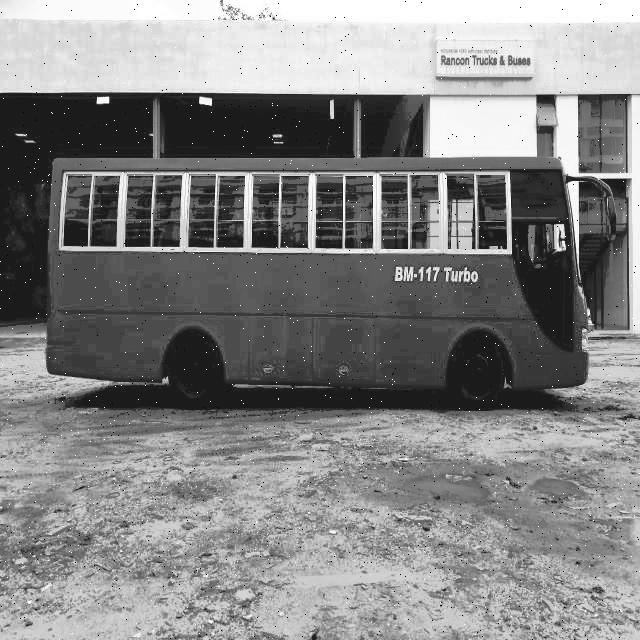Bus: (12, 107, 639, 471)
